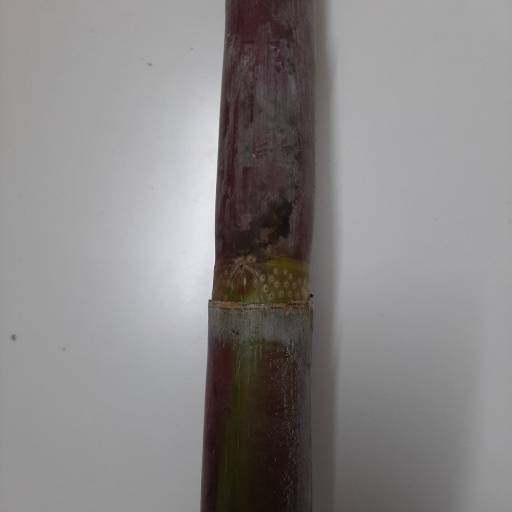Bud: (229, 266, 256, 302)
